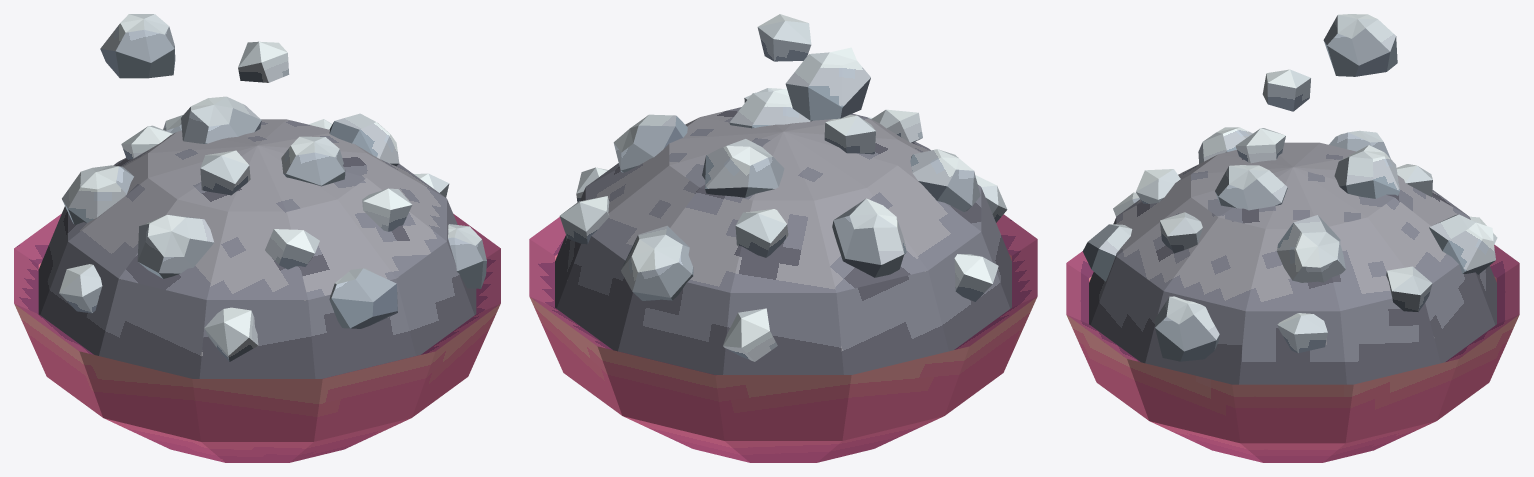
File: rock bowl.gltf
3 views of the same model, side by side, from view 1: azimuth 30°, elevation 25°; view 2: azimuth 150°, elevation 25°; view 3: azimuth 270°, elevation 25° (orthographic). The views are drawn at different scales.
Visible parts, largest first — view 1: Candy outline, Bowl, Rock6 (×4), Rock4 (×3), Rock3 (×4), Rock5 (×2), Rock1, Rock2; view 2: Candy outline, Bowl, Rock6 (×4), Rock3 (×3), Rock5 (×2), Rock4 (×4), Rock2 (×2); view 3: Candy outline, Bowl, Rock6 (×4), Rock5 (×3), Rock3 (×3), Rock2 (×2), Rock4 (×3), Rock1.
Boxes of the visible parts, left/top/right/bottom form: Candy outline: left=38, top=119, right=476, bottom=378; Bowl: left=14, top=213, right=500, bottom=462; Rock6 (×4): left=62, top=113, right=399, bottom=328; Rock4 (×3): left=137, top=215, right=319, bottom=361; Rock3 (×4): left=59, top=96, right=412, bottom=313; Rock5 (×2): left=100, top=14, right=250, bottom=195; Rock1: left=448, top=224, right=486, bottom=288; Rock2: left=238, top=41, right=289, bottom=82; Candy outline: left=555, top=107, right=1011, bottom=374; Bowl: left=529, top=214, right=1037, bottom=462; Rock6 (×4): left=613, top=88, right=906, bottom=361; Rock3 (×3): left=702, top=139, right=998, bottom=301; Rock5 (×2): left=785, top=47, right=875, bottom=154; Rock4 (×4): left=559, top=109, right=1007, bottom=244; Rock2 (×2): left=620, top=14, right=811, bottom=300; Candy outline: left=1089, top=142, right=1496, bottom=384; Bowl: left=1066, top=244, right=1519, bottom=462; Rock6 (×4): left=1082, top=130, right=1390, bottom=282; Rock5 (×3): left=1235, top=14, right=1397, bottom=353; Rock3 (×3): left=1160, top=145, right=1432, bottom=253; Rock2 (×2): left=1262, top=69, right=1495, bottom=274; Rock4 (×3): left=1136, top=127, right=1432, bottom=311; Rock1: left=1154, top=296, right=1219, bottom=361.
Bounding box in the file's own units: 1.67 × 1.47 × 1.67.
4 materials, 4 textured.
